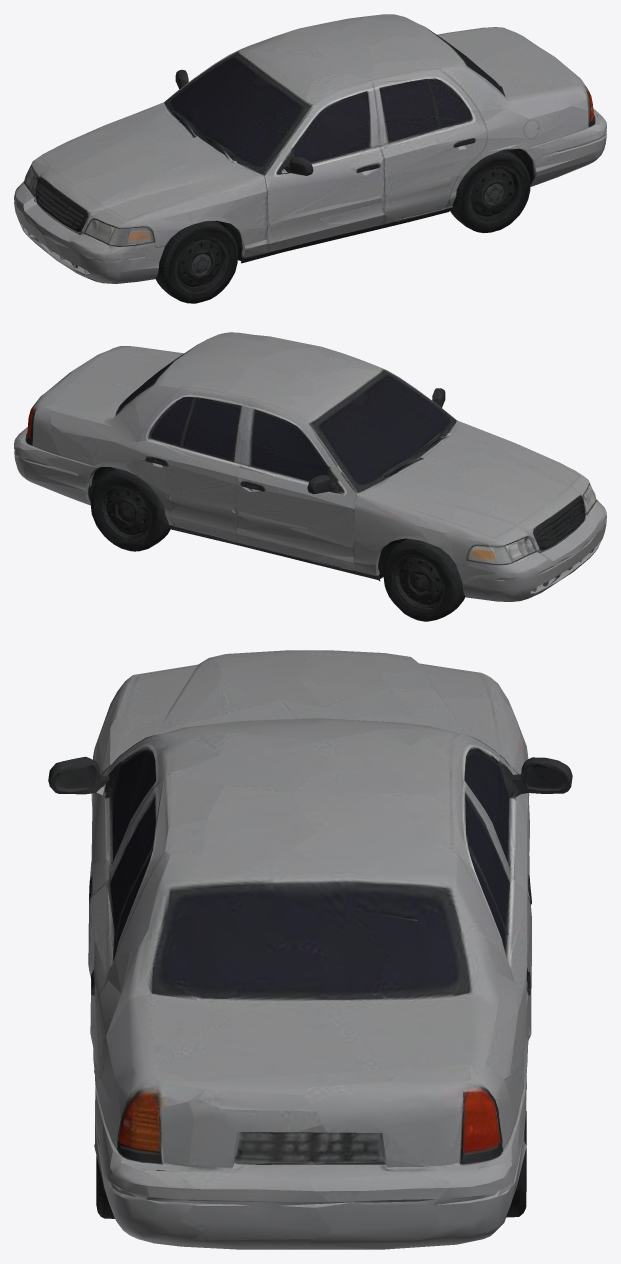
File: car_sedan.glb
3 views of the same model, one above another, from view 1: azimuth 30°, elevation 25°; view 2: azimuth 150°, elevation 25°; view 3: azimuth 270°, elevation 25° (orthographic). The views are drawn at different scales.
Parts seen in each view (by area): view 1: output_unwrapped; view 2: output_unwrapped; view 3: output_unwrapped.
Boxes of the visible parts, x1=… form: output_unwrapped: x1=14, y1=14, x2=606, y2=303; output_unwrapped: x1=14, y1=332, x2=606, y2=621; output_unwrapped: x1=48, y1=650, x2=572, y2=1249.
Bounding box in the file's own units: 1.9 × 0.588 × 0.8181.
1 material, 1 textured.
